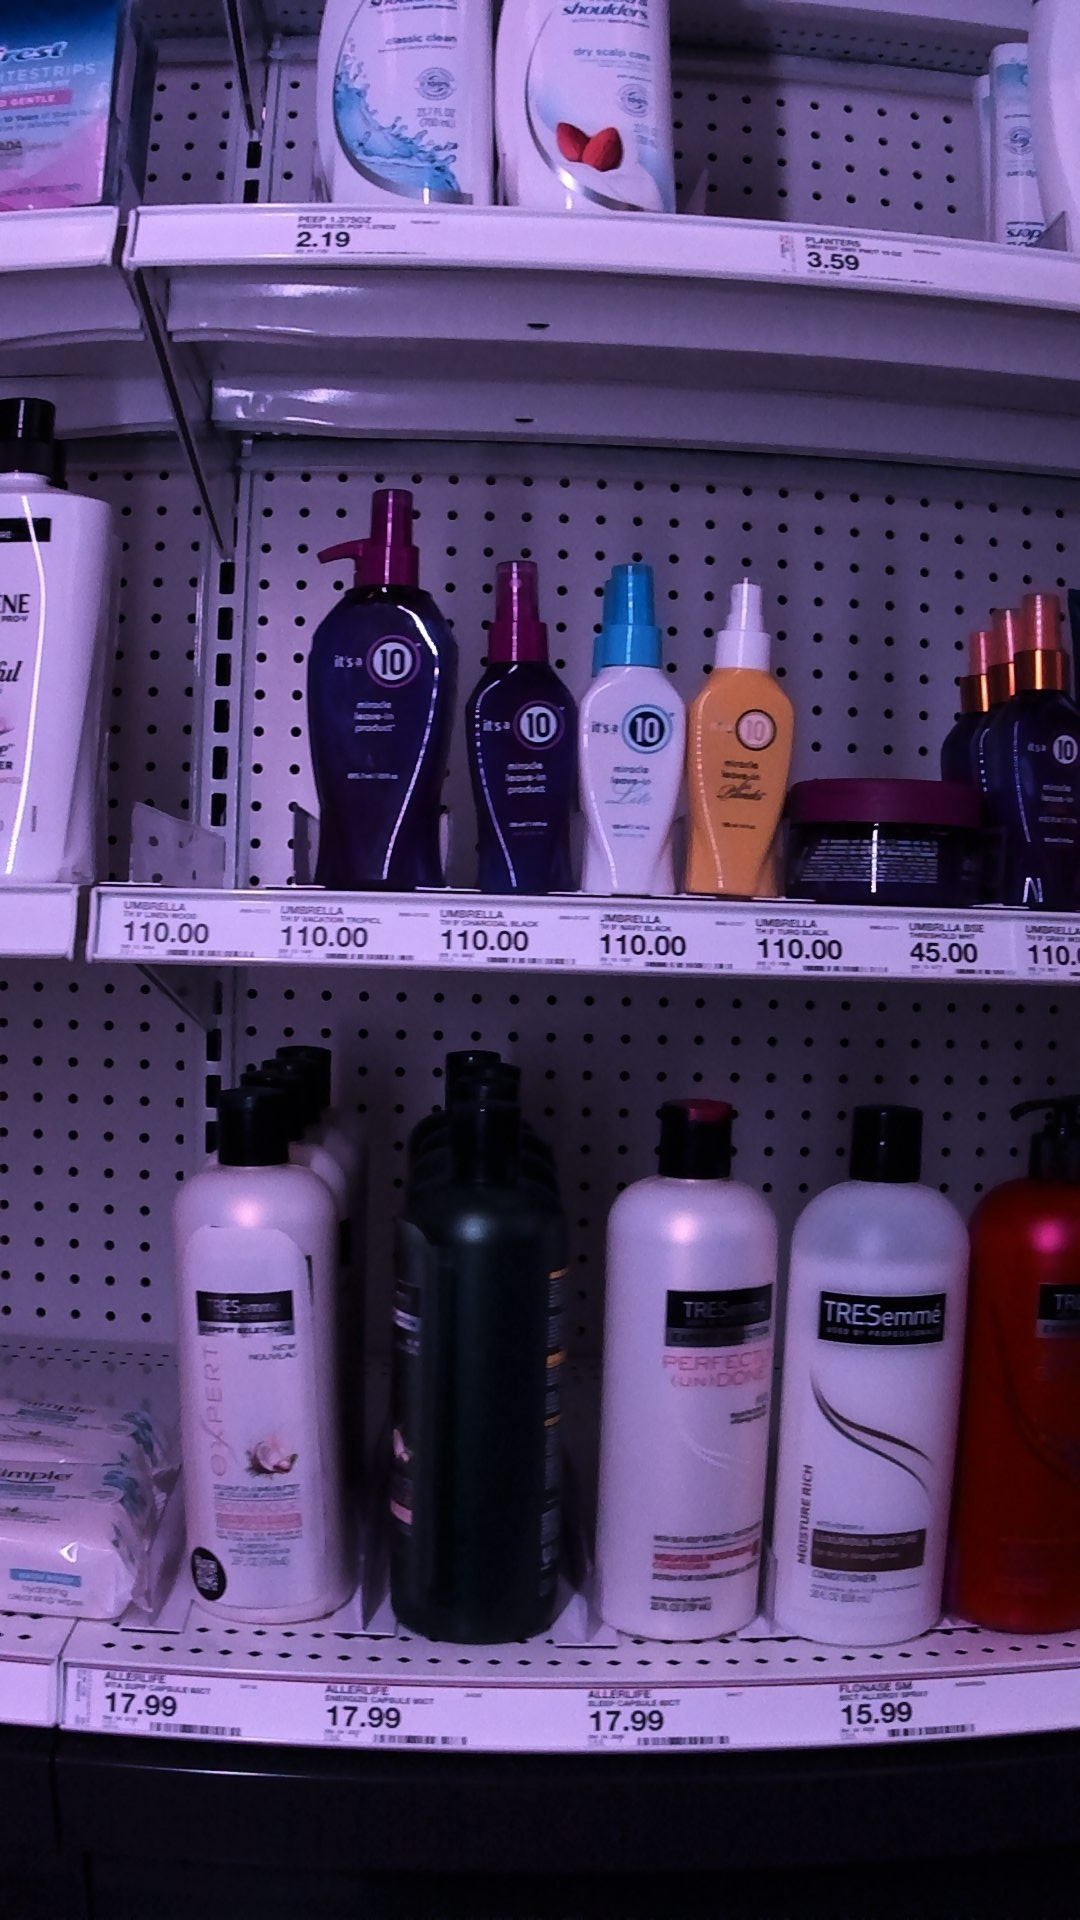ptag: (778, 222, 963, 301), (575, 1684, 740, 1762), (320, 1671, 471, 1755), (835, 1671, 982, 1756), (435, 889, 578, 977), (95, 889, 255, 967), (273, 884, 409, 973), (593, 891, 727, 982), (100, 1671, 258, 1742), (293, 204, 442, 276), (752, 897, 872, 980), (898, 905, 1002, 984)
